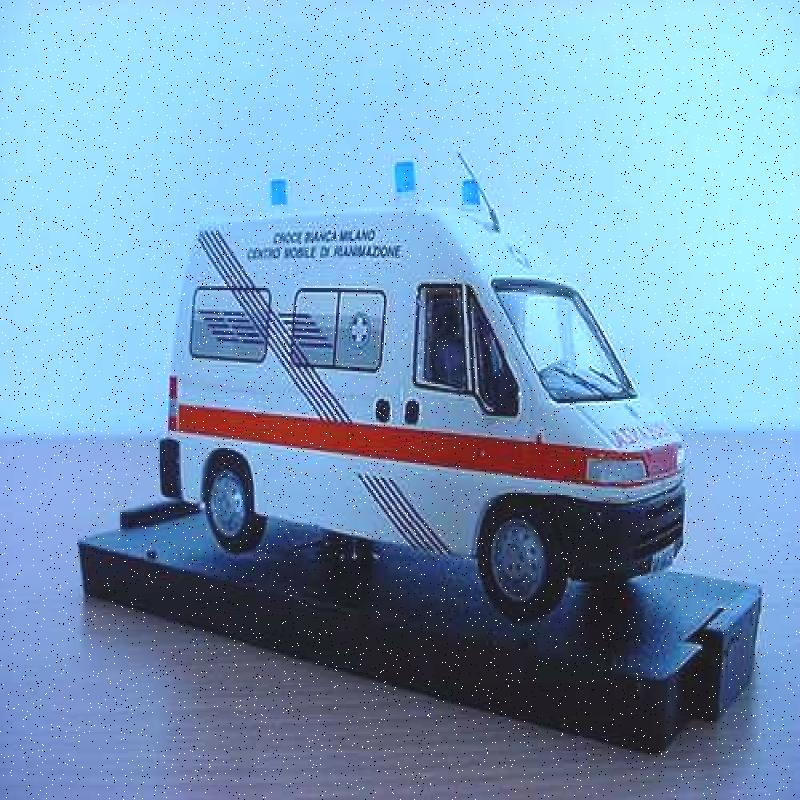AmbulanceSiren: (258, 160, 309, 219), (382, 151, 427, 214), (462, 178, 491, 238)
